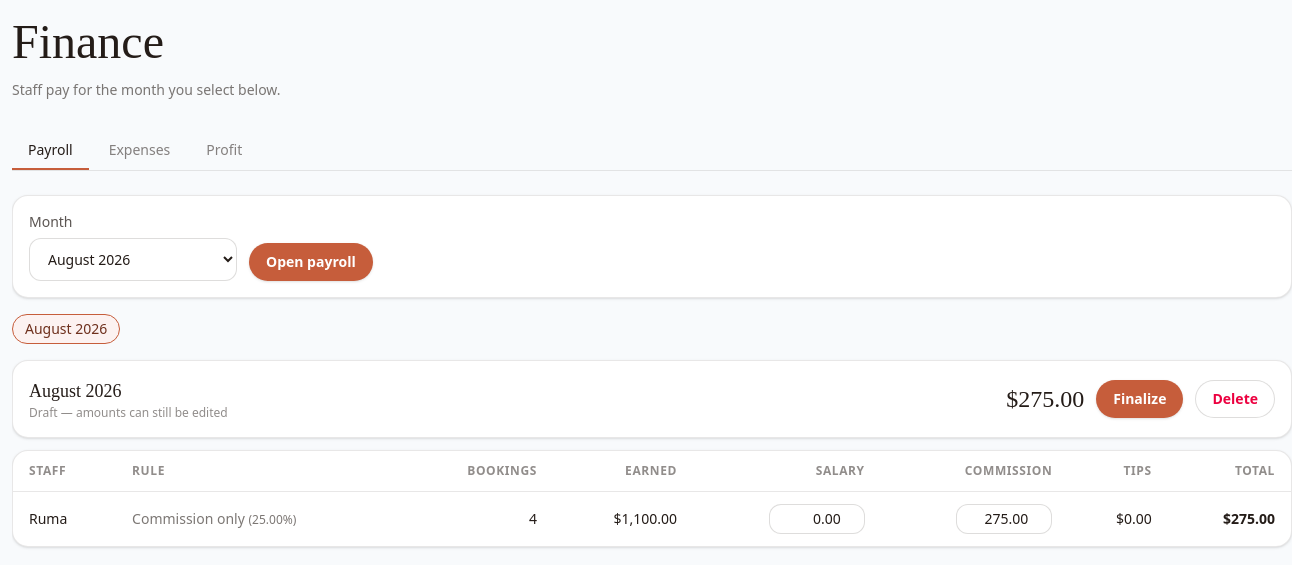
Test case: FinanceView — Payroll tab › deletes a run after confirmation and clears the active run
Click the button "Delete" at (1235, 399), box top-left (1196, 380), bottom-right (1275, 418)
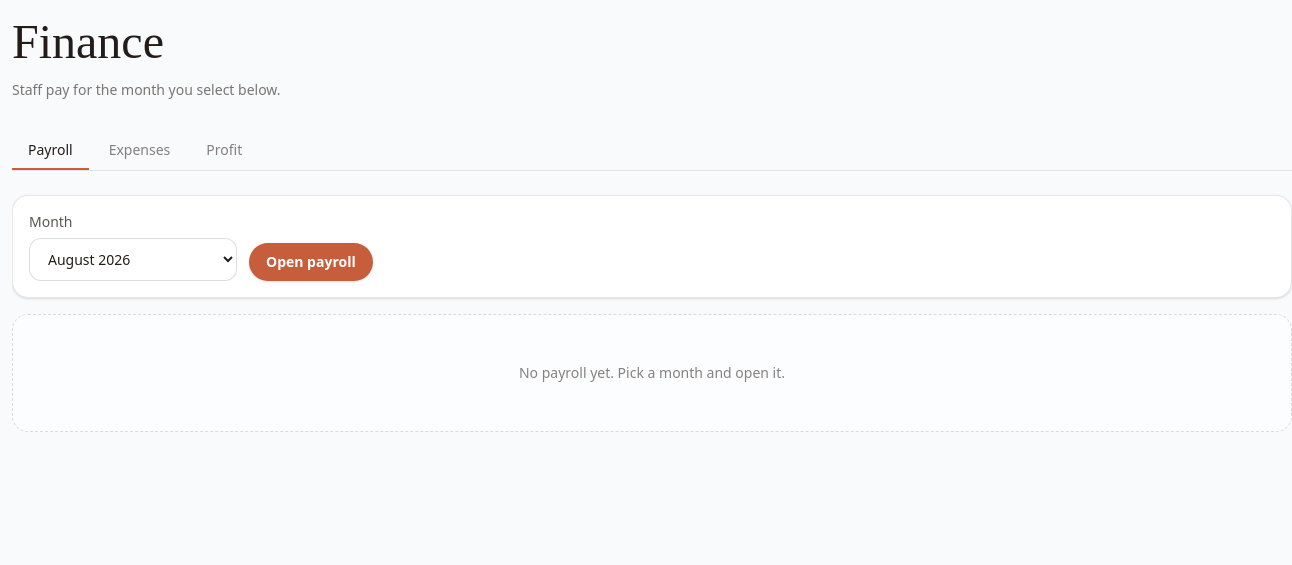
Check: the text "No payroll yet" is shown, box top-left (519, 363), bottom-right (785, 382)
